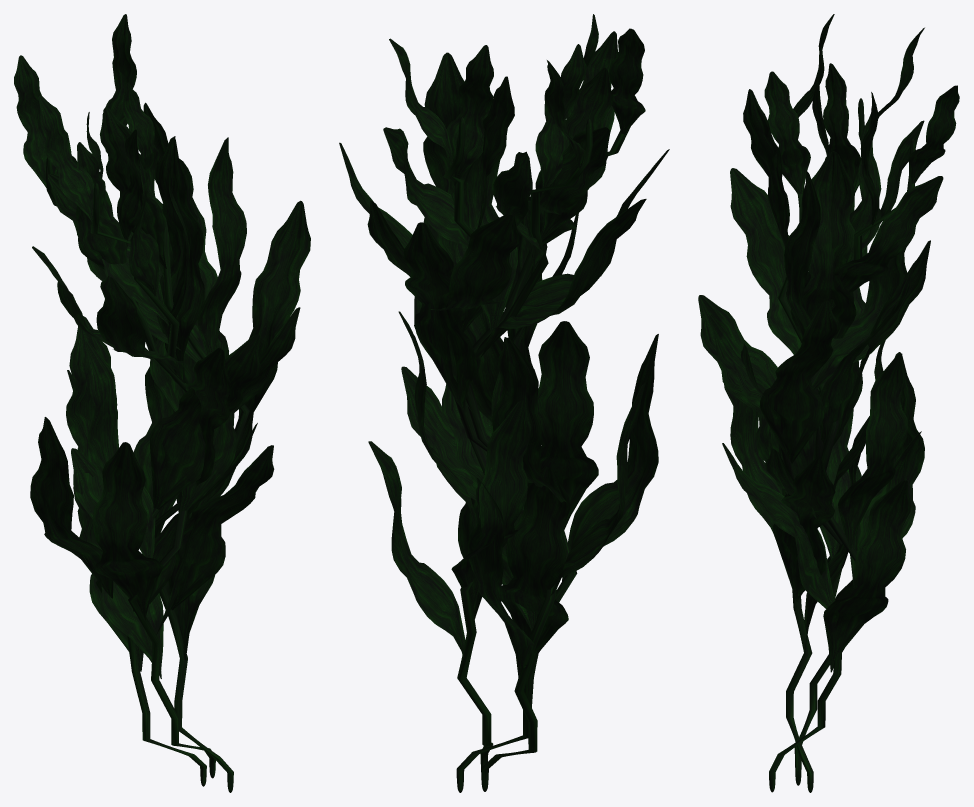
Rendered from seaweed2.glb.
3 views of the same model, side by side, from view 1: azimuth 30°, elevation 25°; view 2: azimuth 150°, elevation 25°; view 3: azimuth 270°, elevation 25° (orthographic). The views are drawn at different scales.
Visible parts, largest first — view 1: defaultMaterial; view 2: defaultMaterial; view 3: defaultMaterial.
Boxes of the visible parts, x1,y1,x2,y2 form: defaultMaterial: (14,14,310,792); defaultMaterial: (339,14,669,792); defaultMaterial: (698,14,959,792).
Bounding box in the file's own units: 0.7882 × 2 × 0.6754.
1 material, 1 textured.
